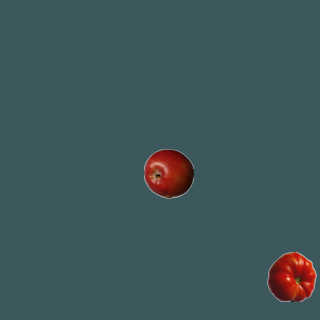Apple Braeburn: (143, 148, 193, 198)
Tomato 3: (266, 251, 316, 301)
